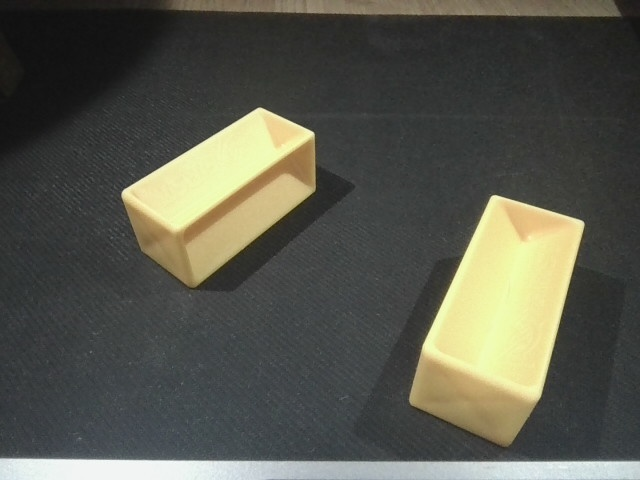YellowSample: (406, 190, 590, 451), (117, 104, 320, 290)
